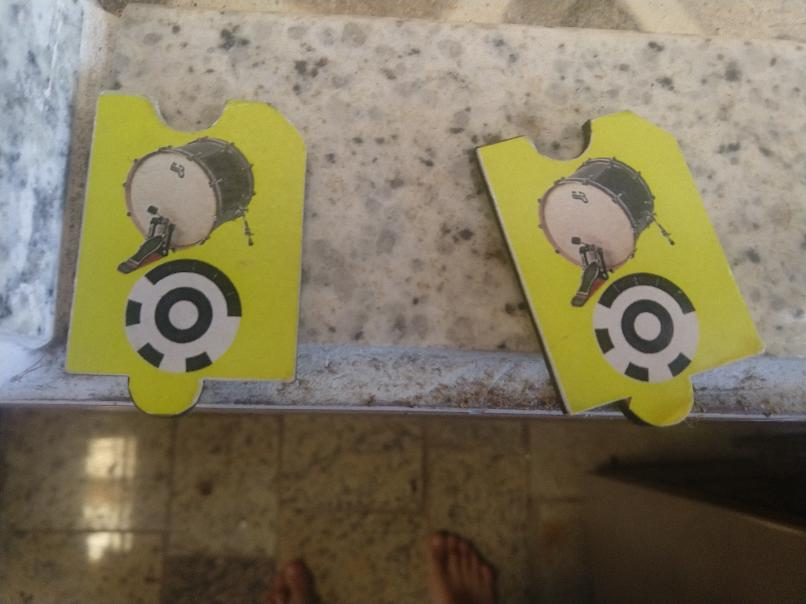bumbo: (473, 106, 765, 426), (65, 90, 313, 415)
